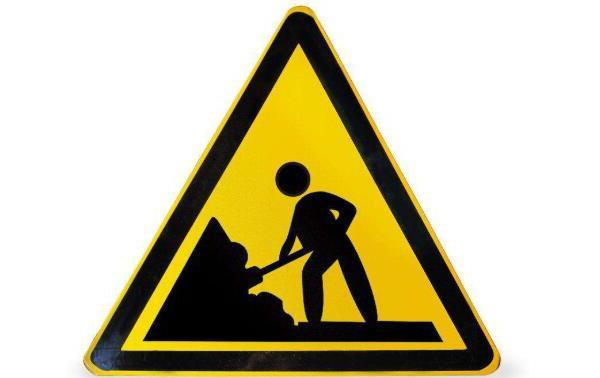sign: (80, 2, 518, 374)
